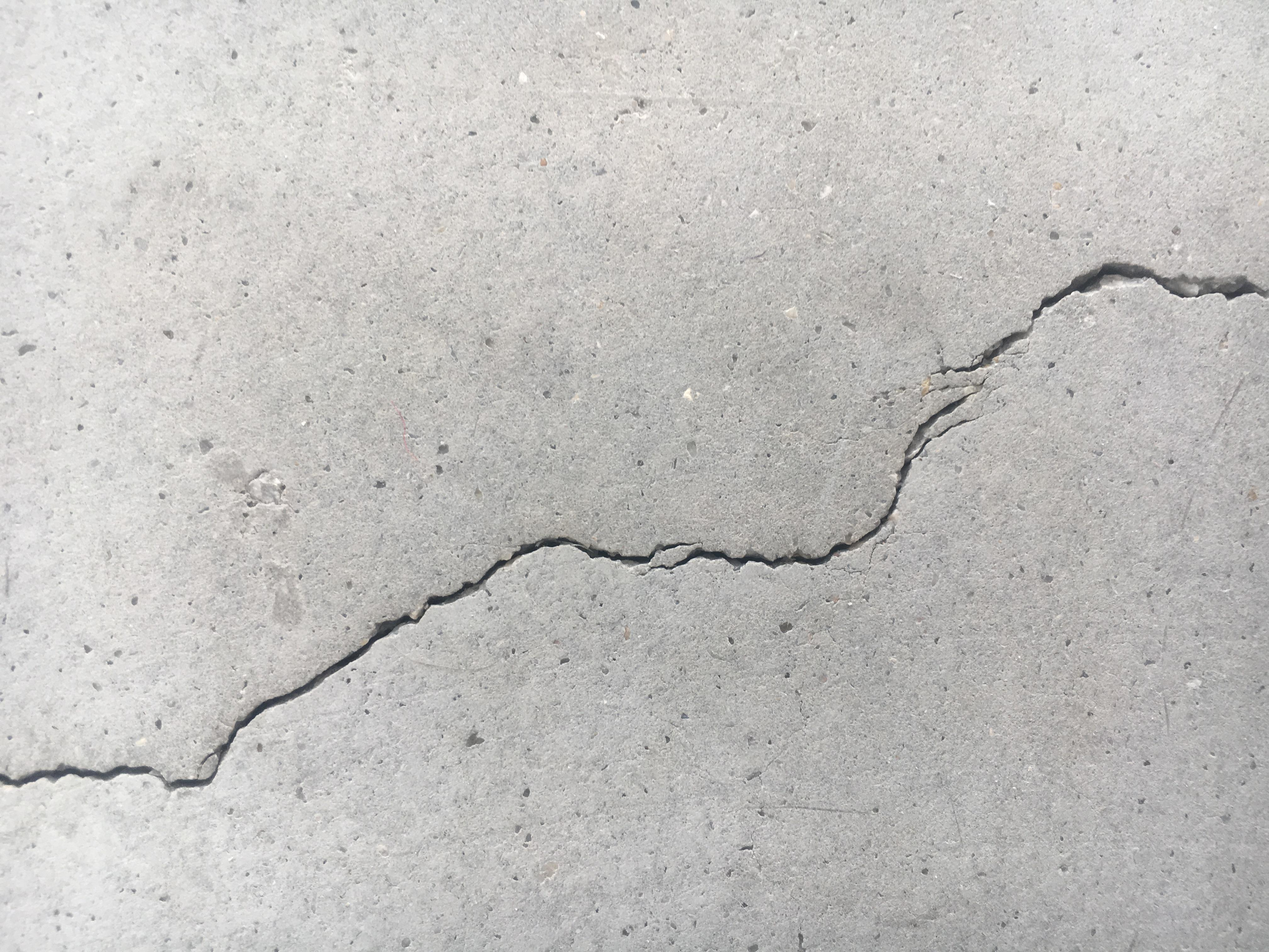Diagonal Crack: (4, 258, 1266, 792)
